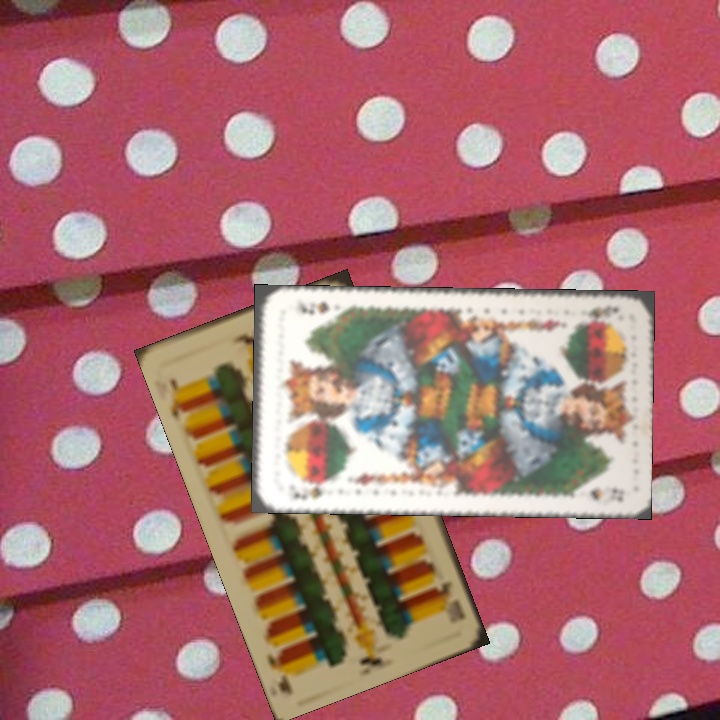E10: (431, 577, 468, 622), (166, 374, 188, 424)
SK: (289, 478, 335, 503), (585, 301, 621, 324)
